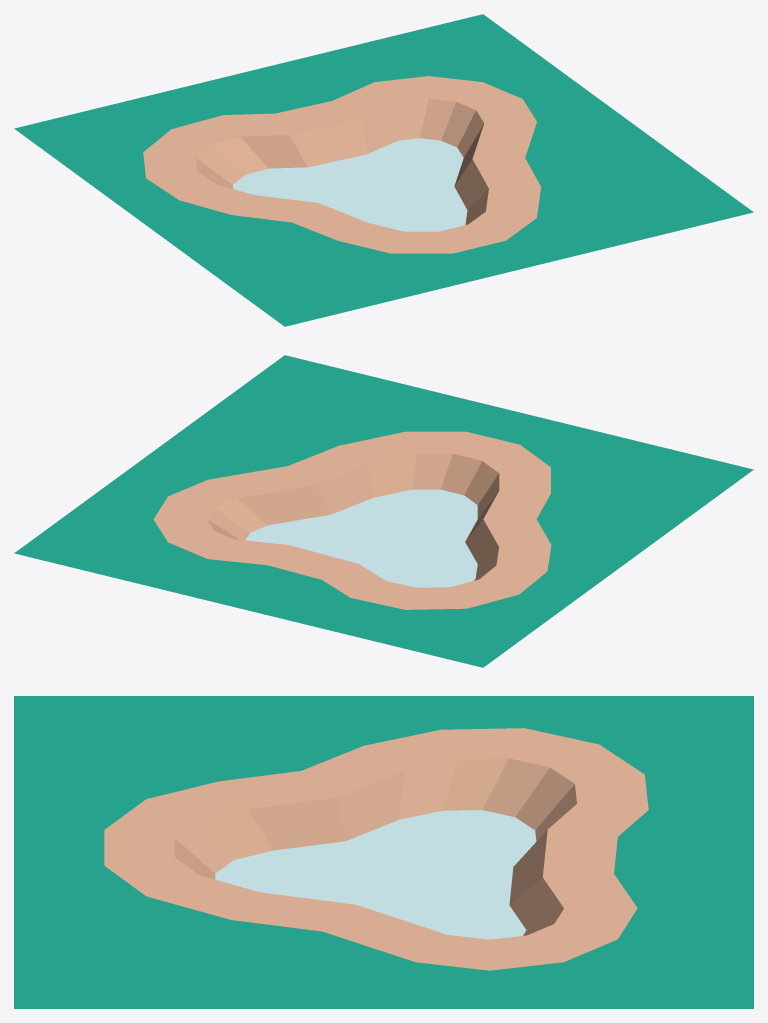
The model's file is ground_riverTile.glb.
The picture shows the model from 3 angles, top to bottom: view 1: azimuth 30°, elevation 25°; view 2: azimuth 150°, elevation 25°; view 3: azimuth 270°, elevation 25°; orthographic projection. The views are drawn at different scales.
Parts seen in each view (by area): view 1: ground_riverTile; view 2: ground_riverTile; view 3: ground_riverTile.
Boxes of the visible parts, <box> form: ground_riverTile: <box>14,14,753,326</box>; ground_riverTile: <box>14,355,753,667</box>; ground_riverTile: <box>14,696,753,1008</box>.
Bounding box in the file's own units: 1.16 × 0.0581 × 1.16.
